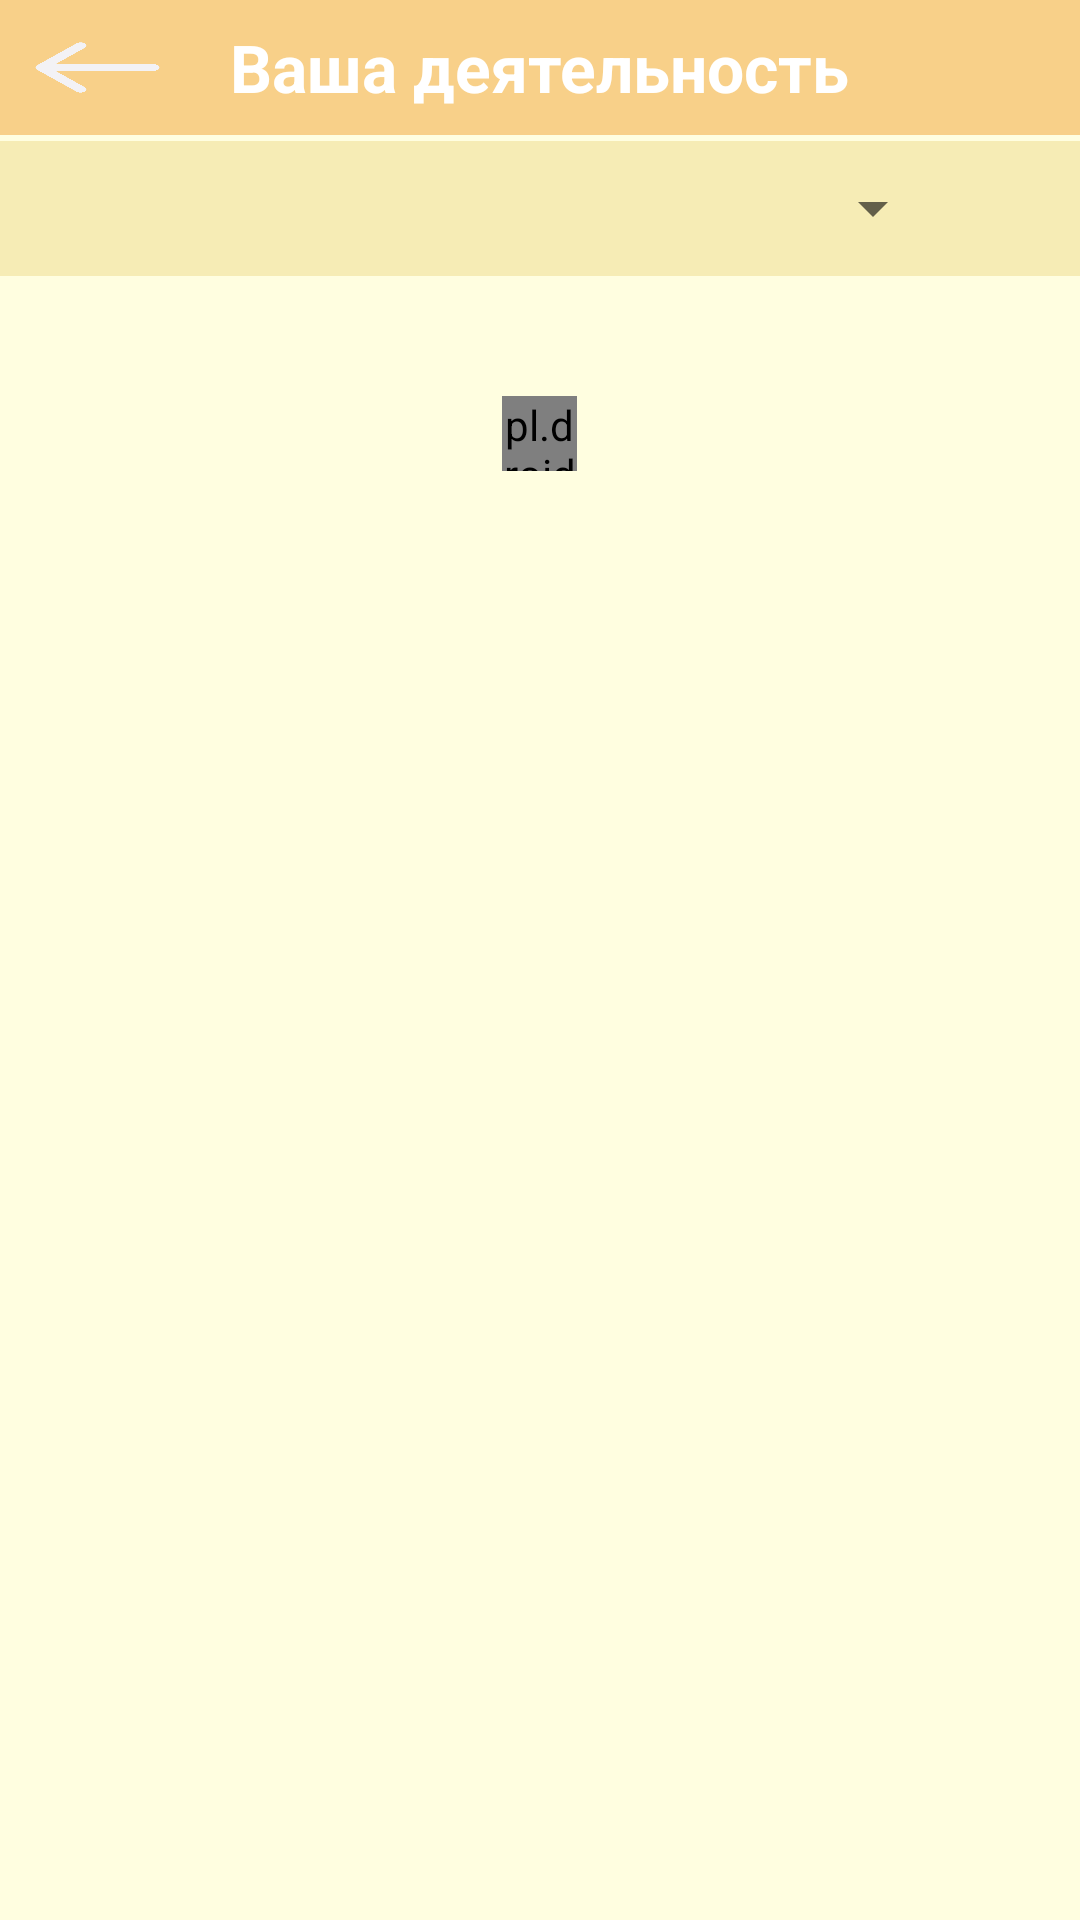

Icons on this 1080 x 1920 Android screen, each with its box as (x1, y1, x2, y2):
arrowback: (35, 42, 160, 93)
